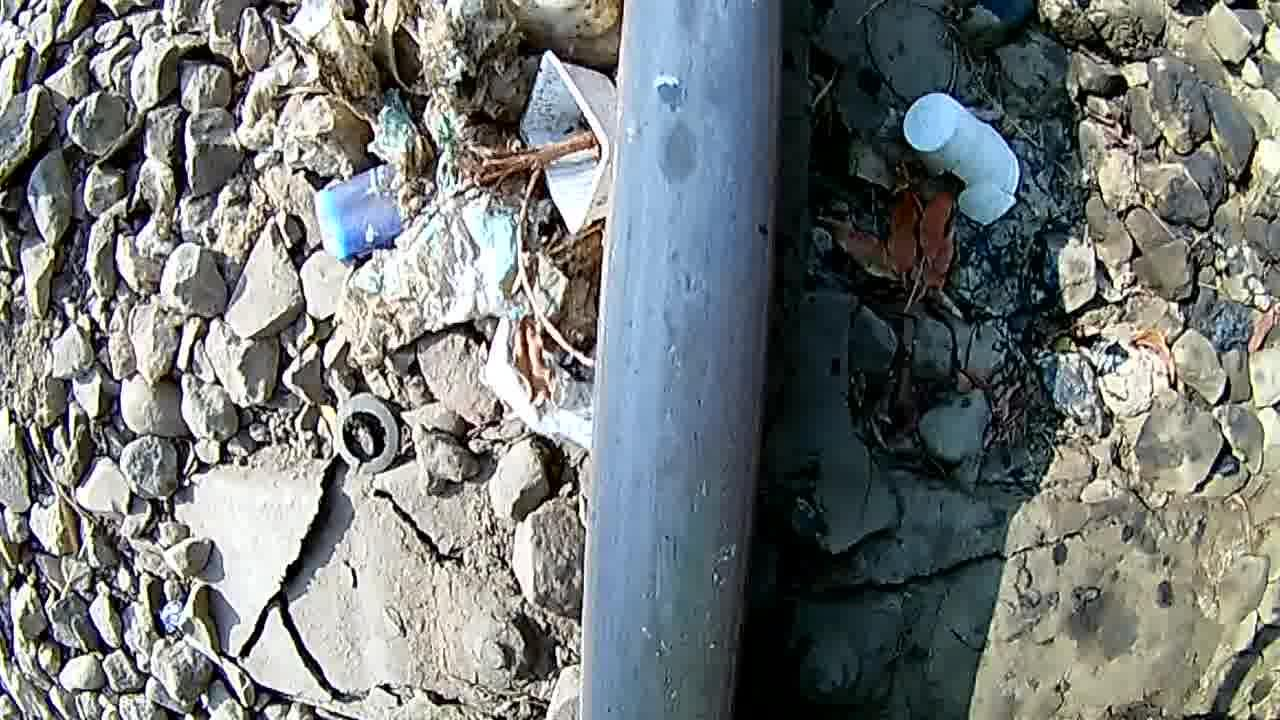bolt_missing: (626, 64, 740, 214)
